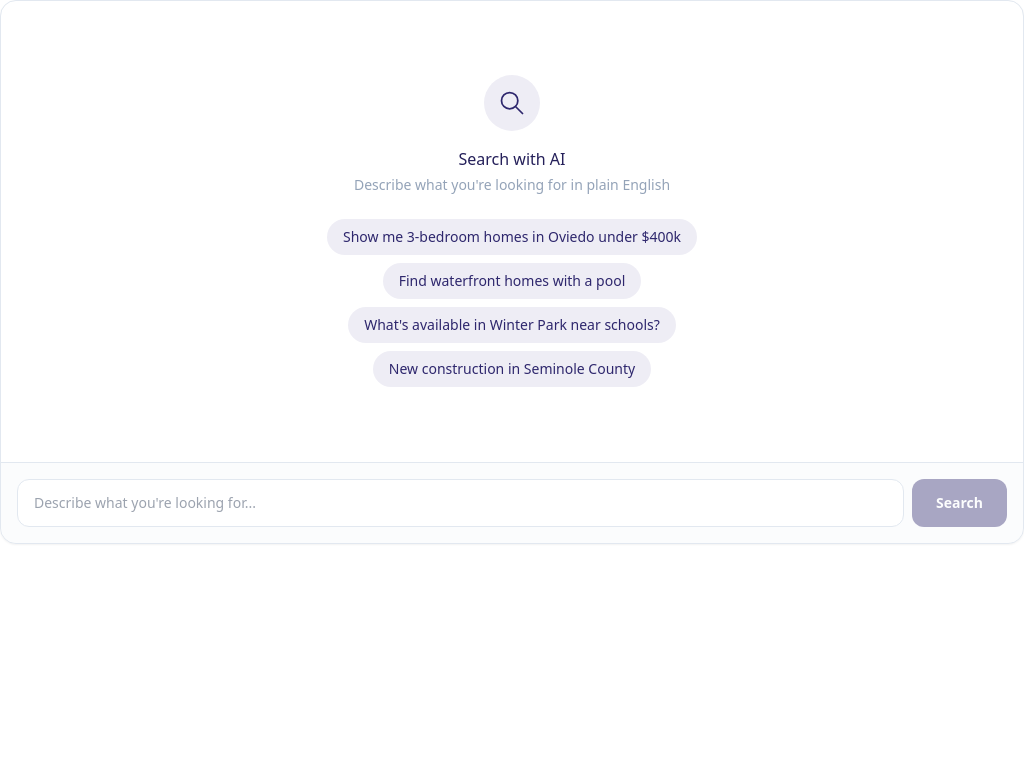
SearchAssistant › rejects a successful response with an invalid body
The width and height of the screenshot is (1024, 768).
Click the button "Show me 3-bedroom homes in Oviedo under $400k". click: click(512, 237)
box: x1=327 y1=219 x2=697 y2=255
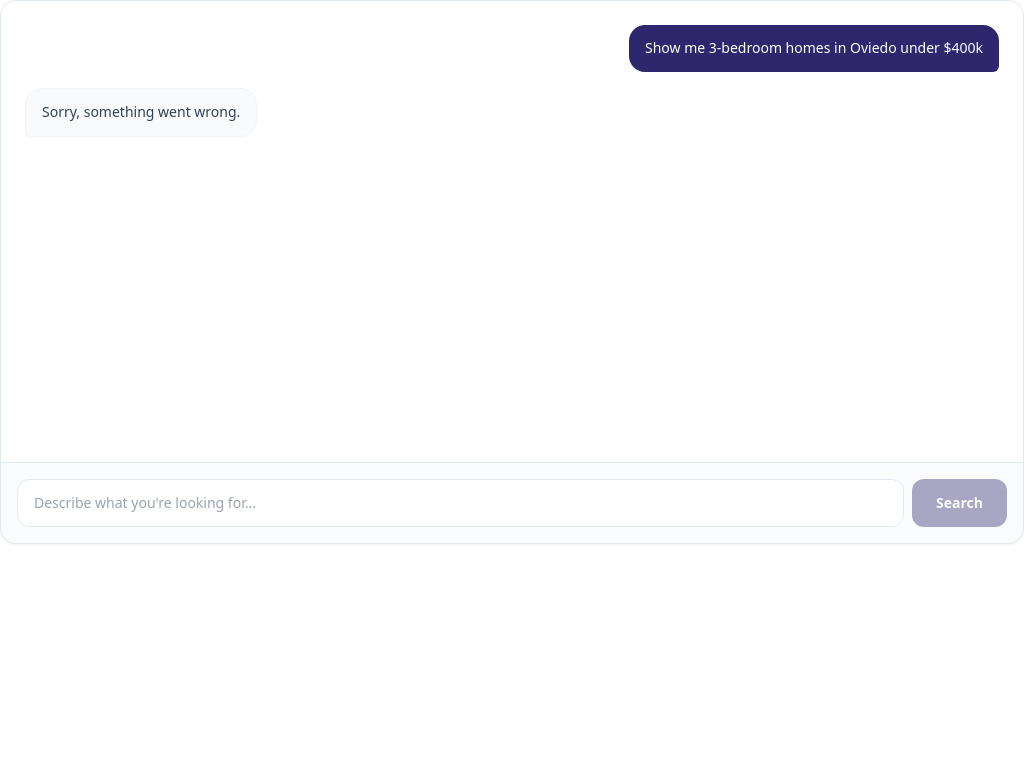
Check: the text "Sorry, something went wrong." is shown, box x1=25 y1=88 x2=257 y2=137
